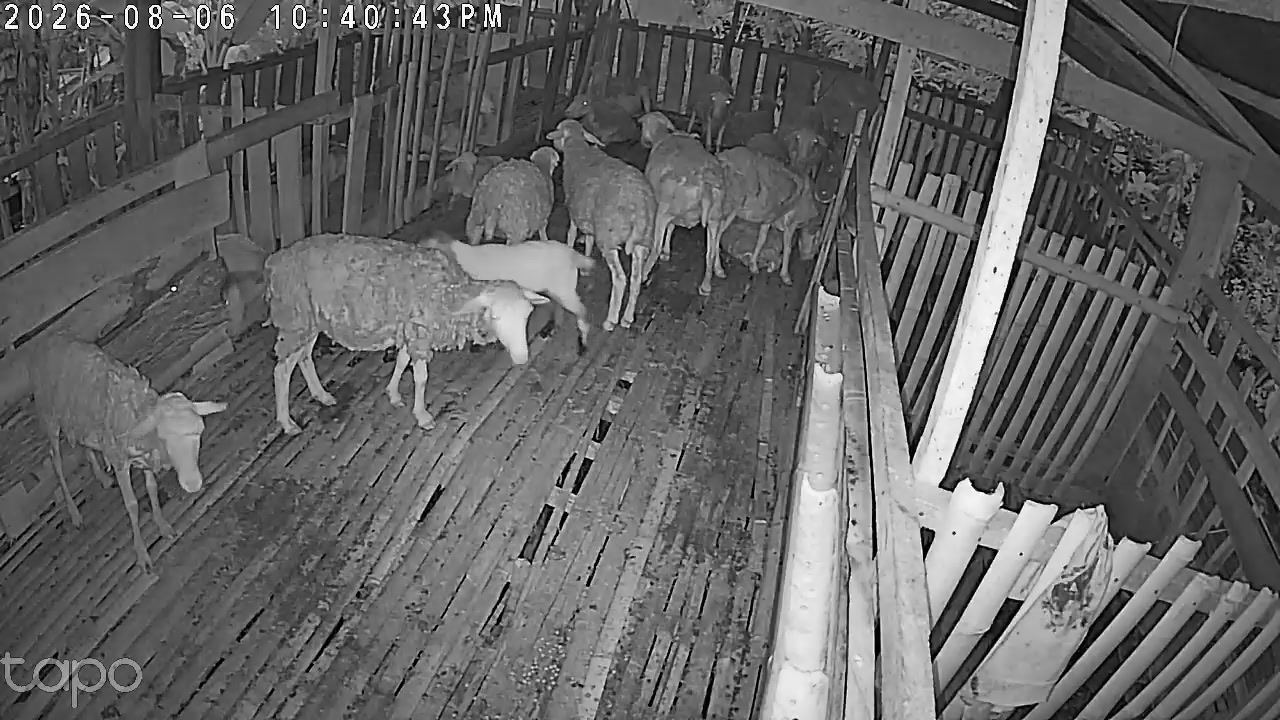sheep: (236, 230, 571, 435), (21, 330, 231, 570), (607, 100, 802, 290), (546, 127, 651, 317), (459, 147, 559, 287), (475, 222, 570, 317)
